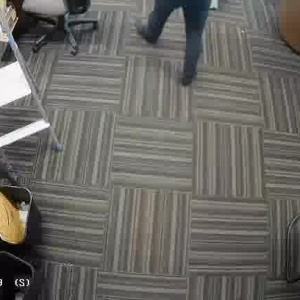person: (142, 0, 210, 86)
